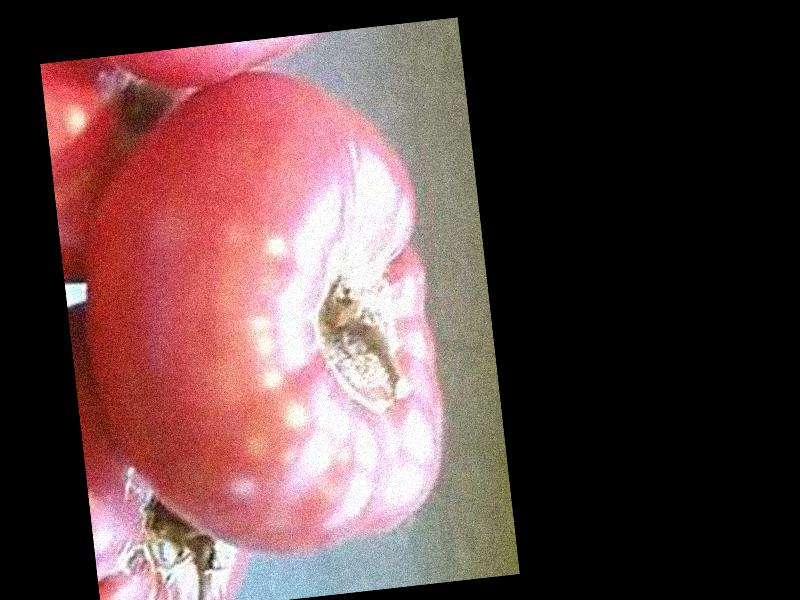Tomato: (61, 50, 457, 575)
